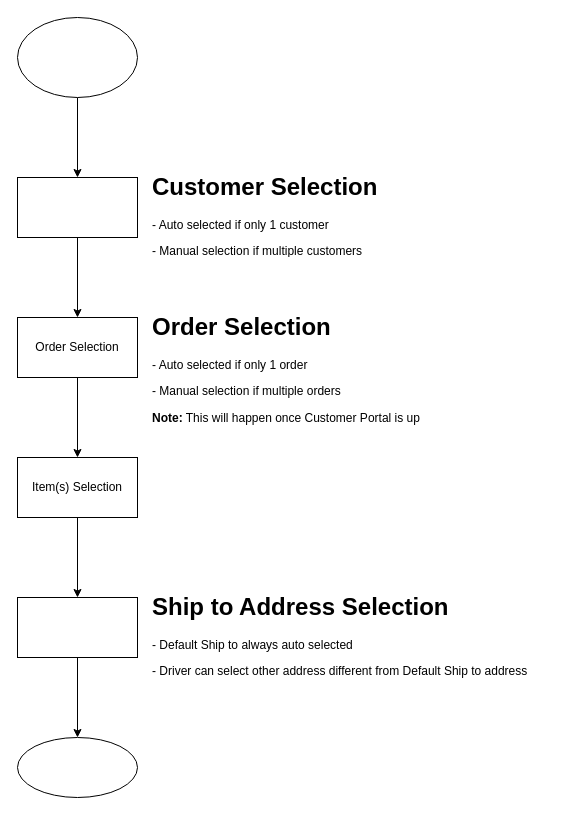
This 565x815 diagram has some shape labels left out. The shapes that lost their labels are listed below. From the top down, each one's centre as x and y in pixels, then its label:
At point 77,207: "*Customer Selection".
At point 77,627: "Ship to Address Selection".
